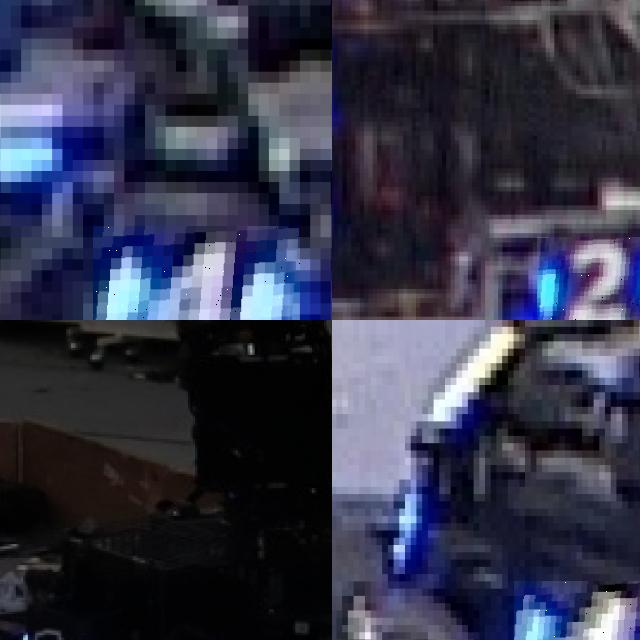B2: (537, 237, 640, 320)
B4: (93, 226, 299, 320), (513, 581, 640, 640)
